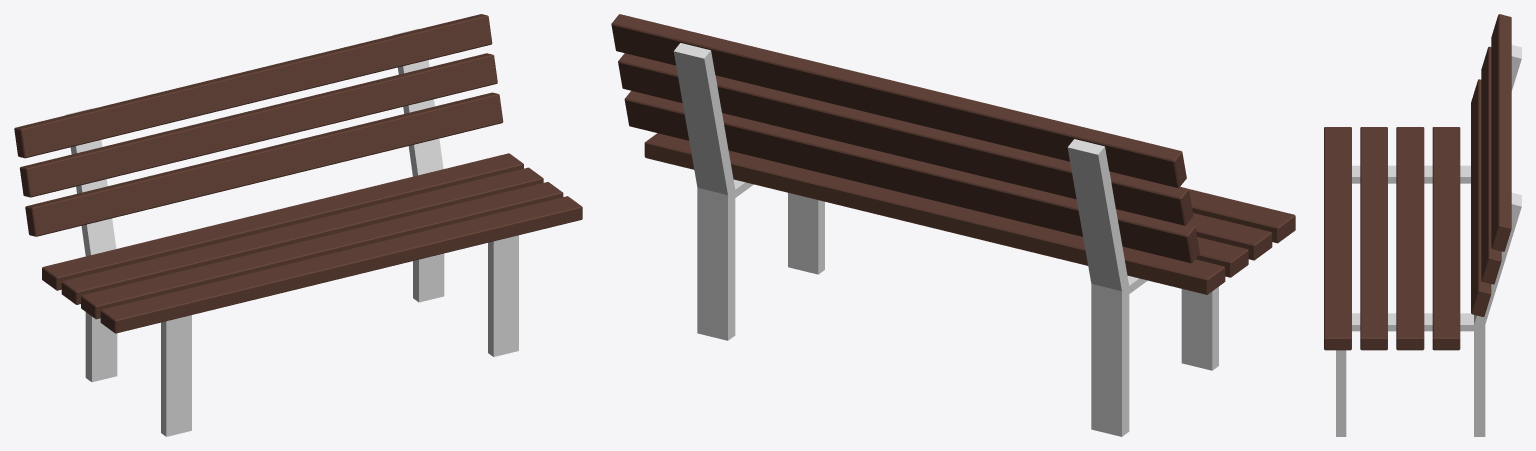
File: bench.glb
3 views of the same model, side by side, from view 1: azimuth 30°, elevation 25°; view 2: azimuth 150°, elevation 25°; view 3: azimuth 270°, elevation 25° (orthographic). The views are drawn at different scales.
Parts seen in each view (by area): view 1: bench; view 2: bench; view 3: bench.
Part boxes in pixels (bbox=[...]): bench: bbox=[14, 14, 582, 436]; bench: bbox=[611, 14, 1295, 436]; bench: bbox=[1324, 14, 1521, 436].
Bounding box in the file's own units: 1.8 × 0.9444 × 0.7113.
